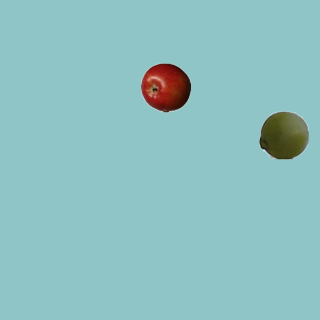Apple Braeburn: (140, 62, 190, 112)
Grape White 4: (258, 109, 308, 159)
